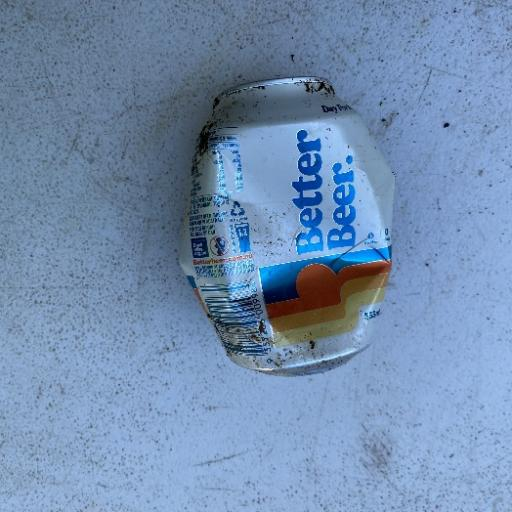Metal: (176, 74, 397, 377)
